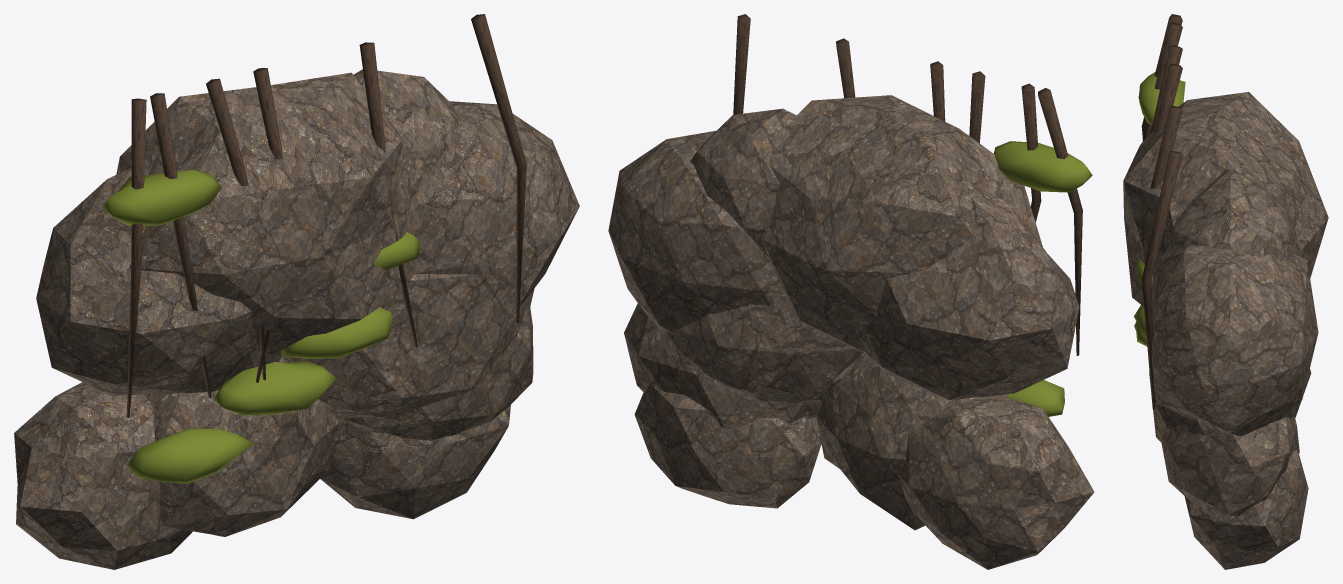
The model's file is cave_rock_wall.glb.
The picture shows the model from 3 angles, left to right: view 1: azimuth 30°, elevation 25°; view 2: azimuth 150°, elevation 25°; view 3: azimuth 270°, elevation 25°; orthographic projection. The views are drawn at different scales.
Visible parts, largest first — view 1: cave_rock_wall_rock, cave_rock_wall_roots_moss; view 2: cave_rock_wall_rock, cave_rock_wall_roots_moss; view 3: cave_rock_wall_rock, cave_rock_wall_roots_moss.
Boxes of the visible parts, <box> form: cave_rock_wall_rock: <box>14,69,579,569</box>; cave_rock_wall_roots_moss: <box>103,14,526,483</box>; cave_rock_wall_rock: <box>608,95,1094,569</box>; cave_rock_wall_roots_moss: <box>733,14,1092,416</box>; cave_rock_wall_rock: <box>1123,92,1328,569</box>; cave_rock_wall_roots_moss: <box>1134,14,1185,409</box>.
Size of what is drawn, in the model's own units: 4 by 3.6 by 1.6.
Materials: 3 (3 with a texture image).
